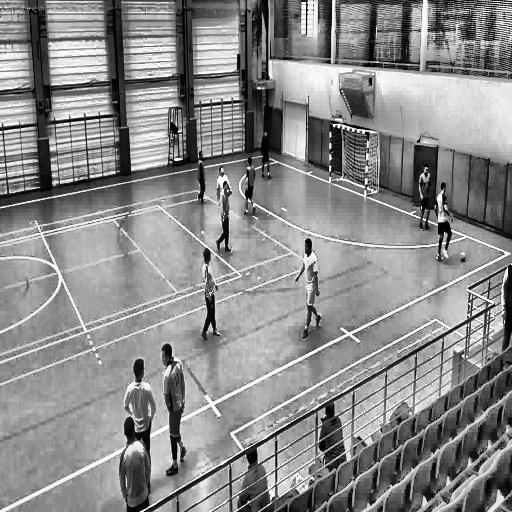ball: (459, 250, 468, 264)
player: (160, 343, 190, 479), (123, 356, 157, 463), (118, 418, 154, 512), (294, 239, 323, 343), (234, 441, 272, 512), (198, 246, 223, 346), (314, 401, 348, 468), (434, 181, 454, 266), (215, 181, 235, 257), (417, 160, 432, 233), (243, 155, 258, 220), (195, 148, 208, 213), (260, 128, 274, 185), (216, 161, 232, 198)
